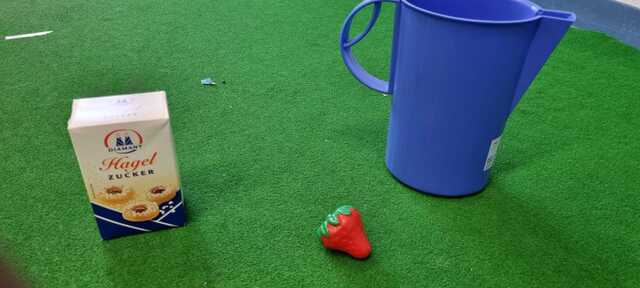004_sugar_box: (64, 88, 194, 244)
012_strawberry: (314, 203, 378, 263)
019_pitcher_base: (338, 1, 579, 200)
